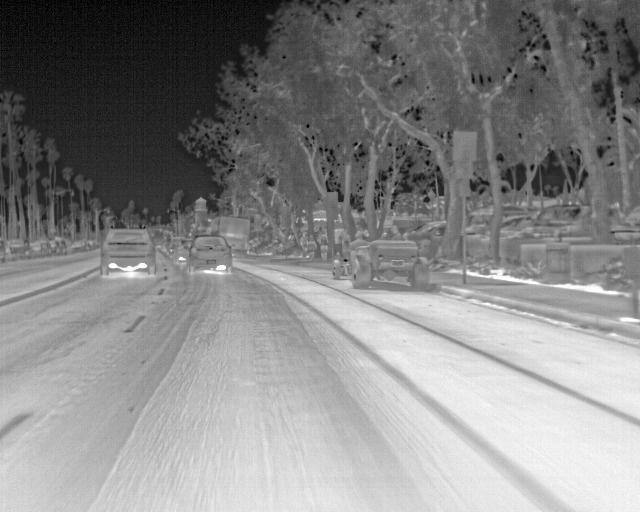bicycle: (100, 225, 158, 272), (185, 235, 232, 271), (4, 237, 32, 259), (70, 238, 91, 254)
empty: (349, 229, 368, 244)
